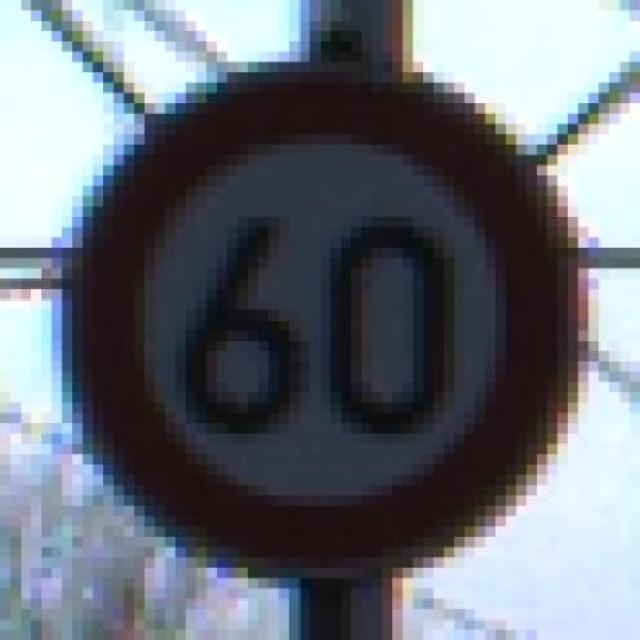forb_speed_over_60: (80, 66, 566, 574)
